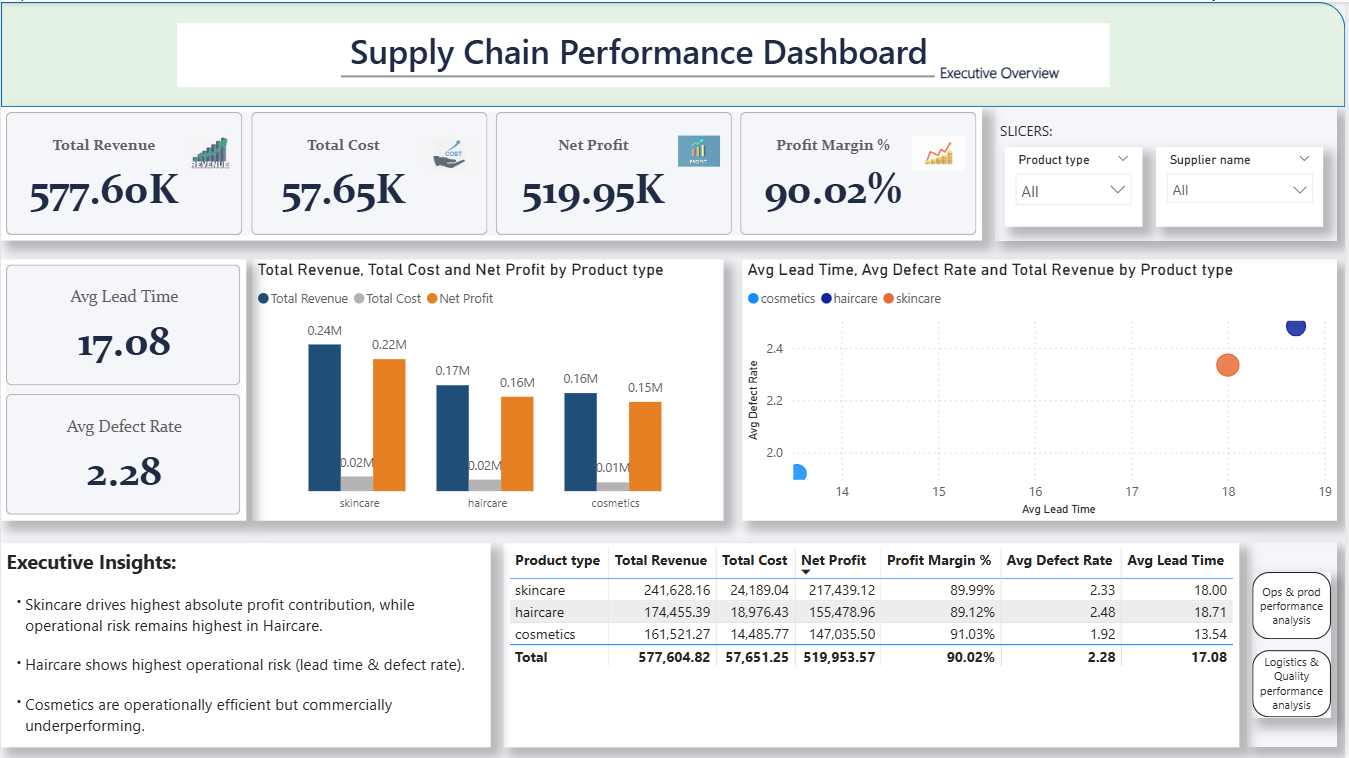

This screenshot's page, from the dashboard's own definition file:
{"tool":"powerbi","page":{"name":"Executive Overview","canvas":[1280,720],"ordinal":0},"visuals":[{"type":"shape","box":[1186.9,514.3,85.7,195.2],"z":0},{"type":"shape","box":[0,0,1280.3,100.2],"z":1000},{"type":"cardVisual","fields":{"Data":["Measures Table.Total Revenue","Measures Table.Total Cost","Measures Table.Net Profit","Measures Table.Profit Margin %"]},"box":[0,100,934.5,127.4],"z":2000},{"type":"clusteredColumnChart","fields":{"Category":["supply_chain_data.Product type"],"Y":["Measures Table.Total Revenue","Measures Table.Total Cost","Measures Table.Net Profit"]},"box":[239.3,245.2,448.8,248.8],"z":3000},{"type":"tableEx","fields":{"Values":["supply_chain_data.Product type","Measures Table.Total Revenue","Measures Table.Total Cost","Measures Table.Net Profit","Measures Table.Profit Margin %","Measures Table.Avg Defect Rate","Measures Table.Avg Lead Time"]},"box":[478.6,515.5,701.2,194],"z":4000},{"type":"scatterChart","fields":{"X":["Measures Table.Avg Lead Time"],"Size":["Measures Table.Total Revenue"],"Series":["supply_chain_data.Product type"],"Y":["Measures Table.Avg Defect Rate"]},"box":[706,245.2,566.7,248.8],"z":5000},{"type":"cardVisual","fields":{"Data":["Measures Table.Avg Lead Time","Measures Table.Avg Defect Rate"]},"box":[0,245.2,233.3,248.8],"z":6000},{"type":"textbox","box":[0,515.5,466.7,194],"z":7000},{"type":"textbox","box":[167.9,20.2,888.1,60.7],"z":8000},{"type":"shape","box":[323.8,60.7,565.5,20.2],"z":9000},{"type":"pageNavigator","box":[1191.7,542.9,75,139.3],"z":10000},{"type":"shape","box":[946.4,100,326.2,127.4],"z":11000},{"type":"slicer","fields":{"Values":["supply_chain_data.Product type"]},"box":[956,137.6,131,76.2],"z":12000},{"type":"slicer","fields":{"Values":["supply_chain_data.Supplier name"]},"box":[1100,137.6,159.5,76.2],"z":13000},{"type":"textbox","box":[946.4,108.3,148.8,29.8],"z":14000},{"type":"textbox","box":[889.3,52.4,152.4,38.1],"z":15000}]}

Visuals, with their boxes in screenshot pixels (x1, y1, x2, y2), scaled from the page's 1280x720 canvas onto the 1349x758 screenshot:
shape: 1251, 541, 1341, 747
shape: 0, 0, 1348, 105
cardVisual - Measures Table.Total Revenue x Measures Table.Total Cost: 0, 105, 985, 239
clusteredColumnChart - supply_chain_data.Product type x Measures Table.Total Revenue: 252, 258, 725, 520
tableEx - supply_chain_data.Product type x Measures Table.Total Revenue: 504, 543, 1243, 747
scatterChart - Measures Table.Avg Lead Time x Measures Table.Total Revenue: 744, 258, 1341, 520
cardVisual - Measures Table.Avg Lead Time x Measures Table.Avg Defect Rate: 0, 258, 246, 520
textbox: 0, 543, 492, 747
textbox: 177, 21, 1113, 85
shape: 341, 64, 937, 85
pageNavigator: 1256, 572, 1335, 718
shape: 997, 105, 1341, 239
slicer - supply_chain_data.Product type: 1008, 145, 1146, 225
slicer - supply_chain_data.Supplier name: 1159, 145, 1327, 225
textbox: 997, 114, 1154, 145
textbox: 937, 55, 1098, 95
